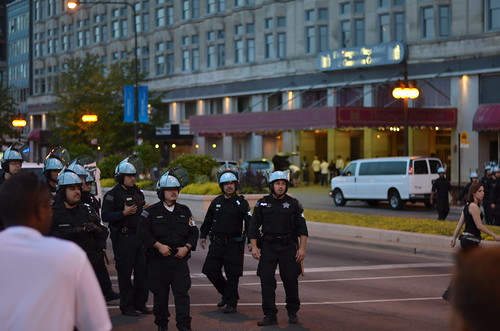building: (1, 1, 500, 113)
policeman: (142, 177, 198, 329), (253, 173, 307, 322), (104, 160, 153, 314), (202, 172, 247, 315), (52, 176, 109, 281)
van: (323, 154, 438, 208)
